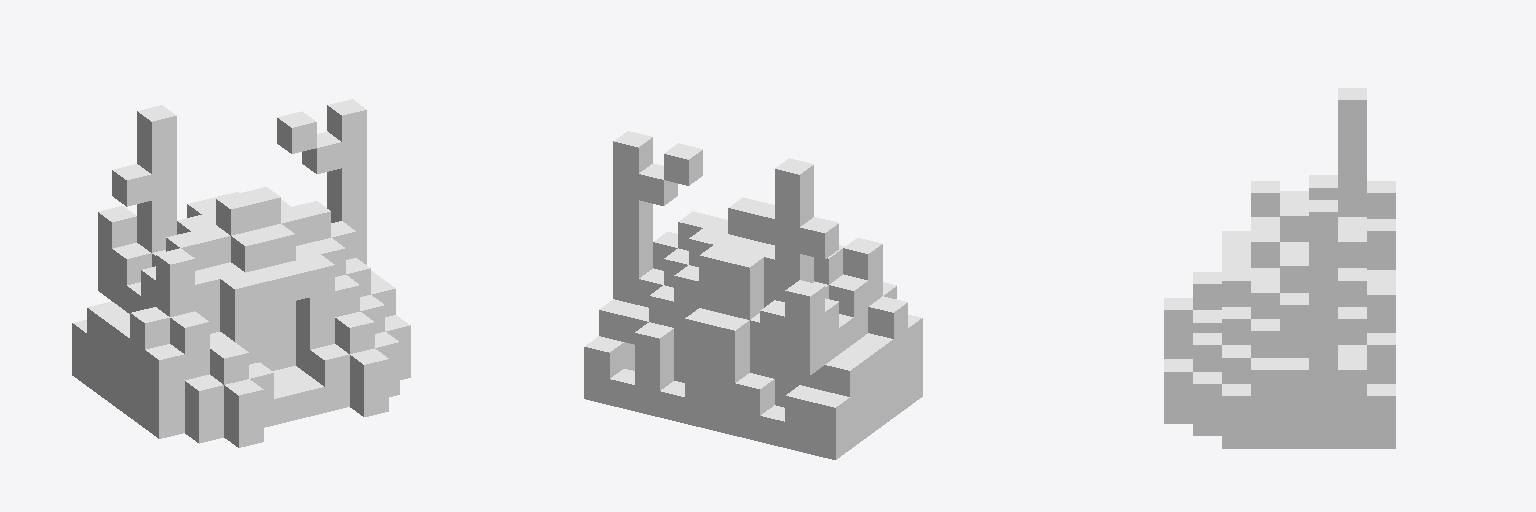
Rendered from UI_tilemodel04.obj.
3 views of the same model, side by side, from view 1: azimuth 30°, elevation 25°; view 2: azimuth 150°, elevation 25°; view 3: azimuth 270°, elevation 25° (orthographic).
Bounding box in the file's own units: 10 × 10 × 8.